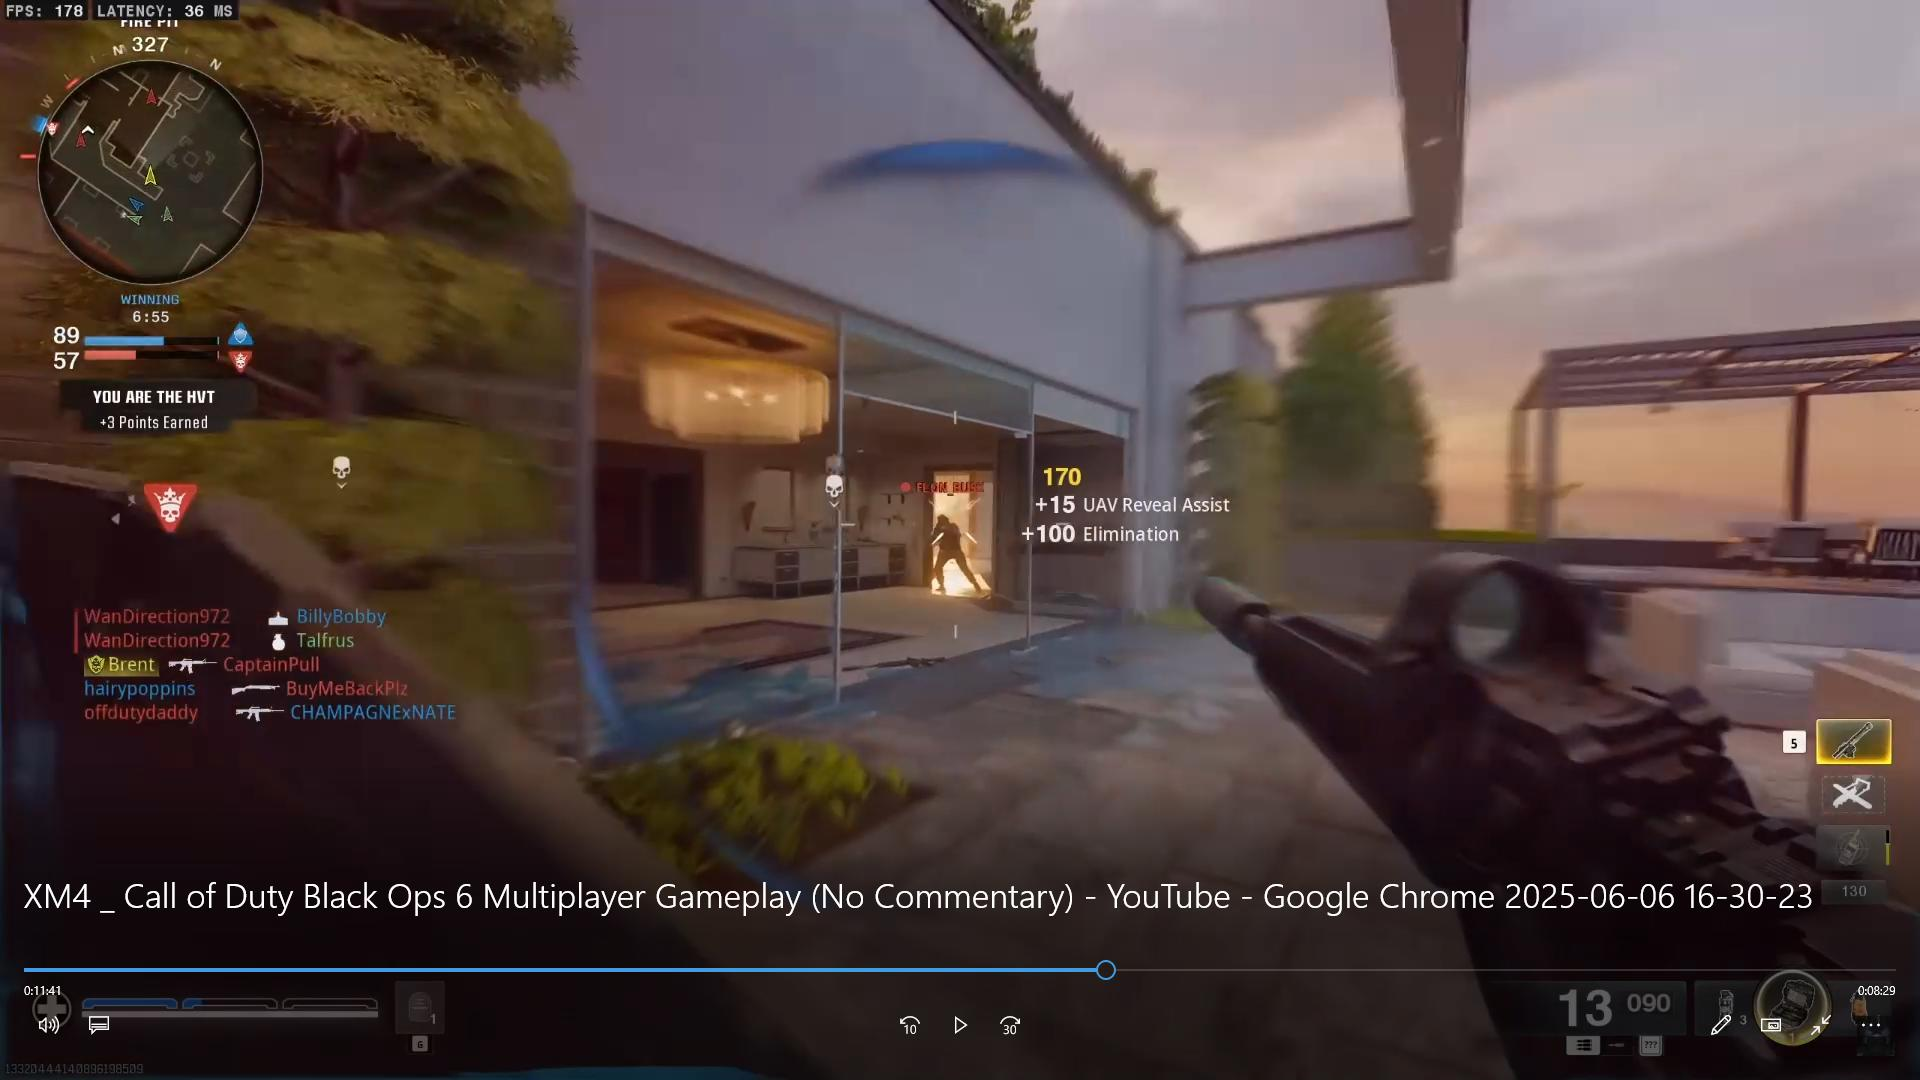Enemy: (920, 498, 992, 608)
